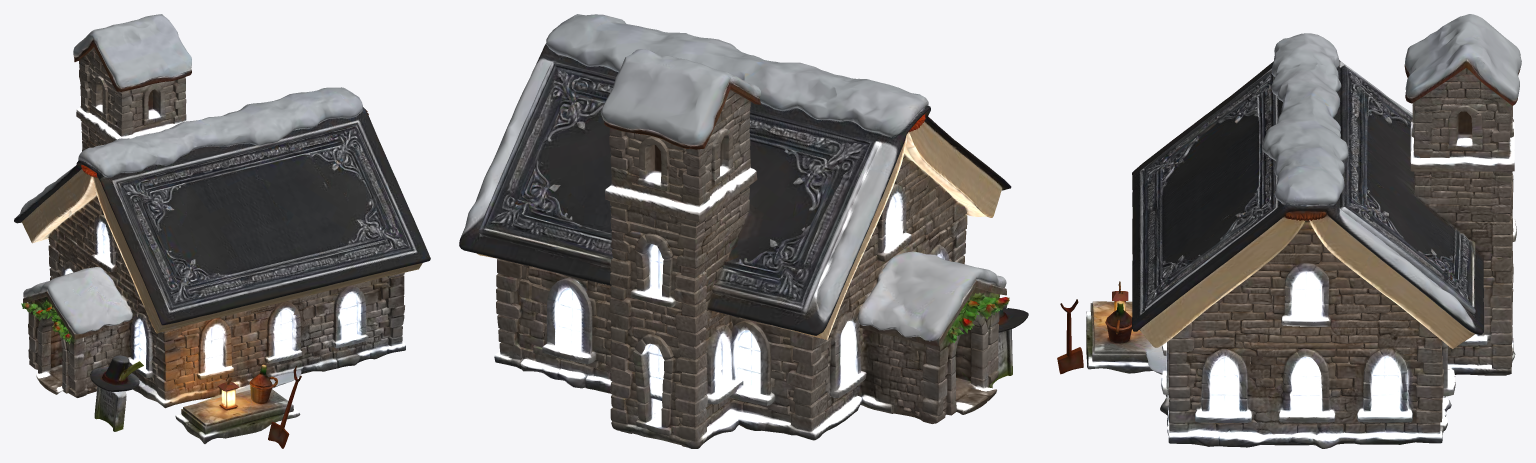
Rendered from goblins-sexton.glb.
3 renders of one model, left to right at view 1: azimuth 30°, elevation 25°; view 2: azimuth 150°, elevation 25°; view 3: azimuth 270°, elevation 25°, orthographic. The views are drawn at different scales.
Visible parts, largest first — view 1: model; view 2: model; view 3: model.
Part boxes in pixels (x1,y1,x2,y2): model: [14, 14, 430, 448]; model: [459, 14, 1028, 448]; model: [1057, 14, 1521, 448].
Size of the model in its own units: 1.83 by 1.6 by 1.9.
Materials: 1 (1 with a texture image).
